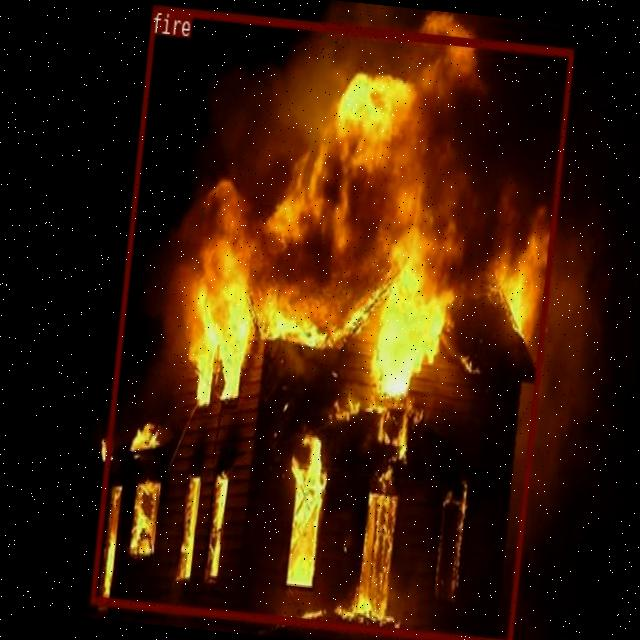fire: (89, 4, 573, 640)
